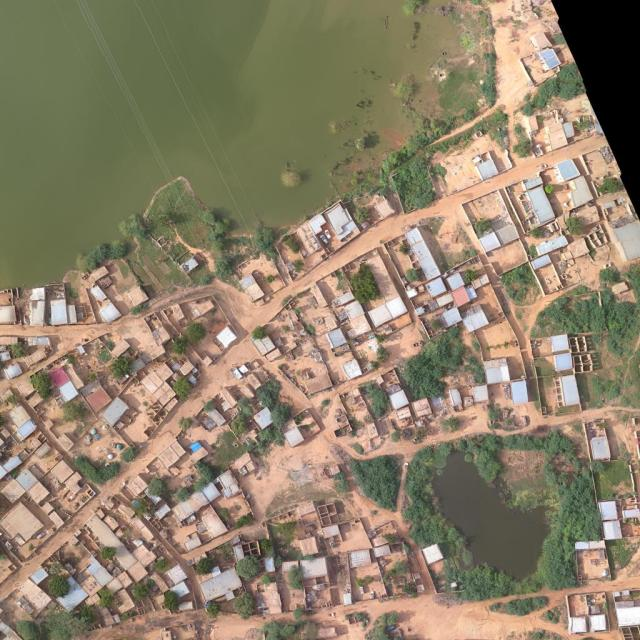wetland: (406, 448, 566, 596)
